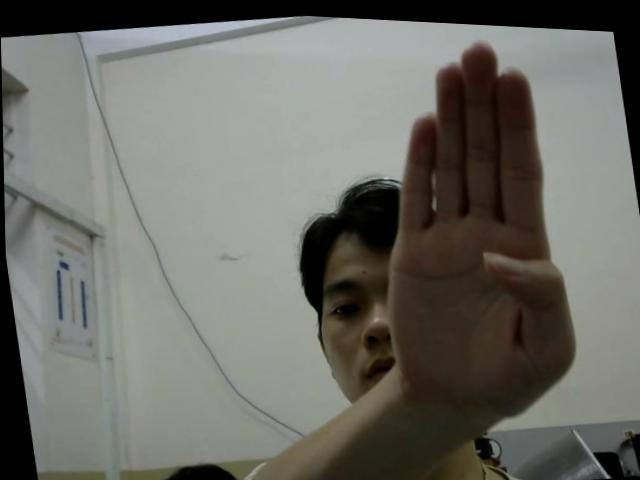B: (351, 24, 585, 433)
